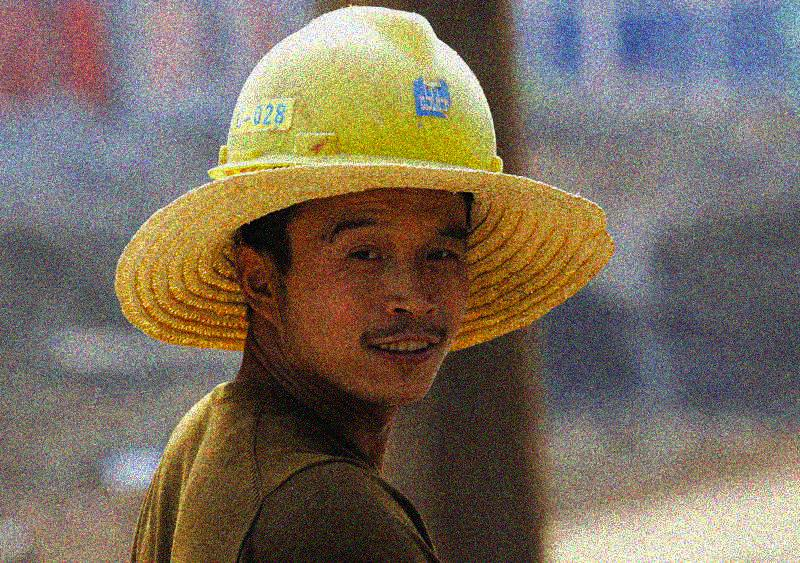helmet: (204, 6, 503, 409)
